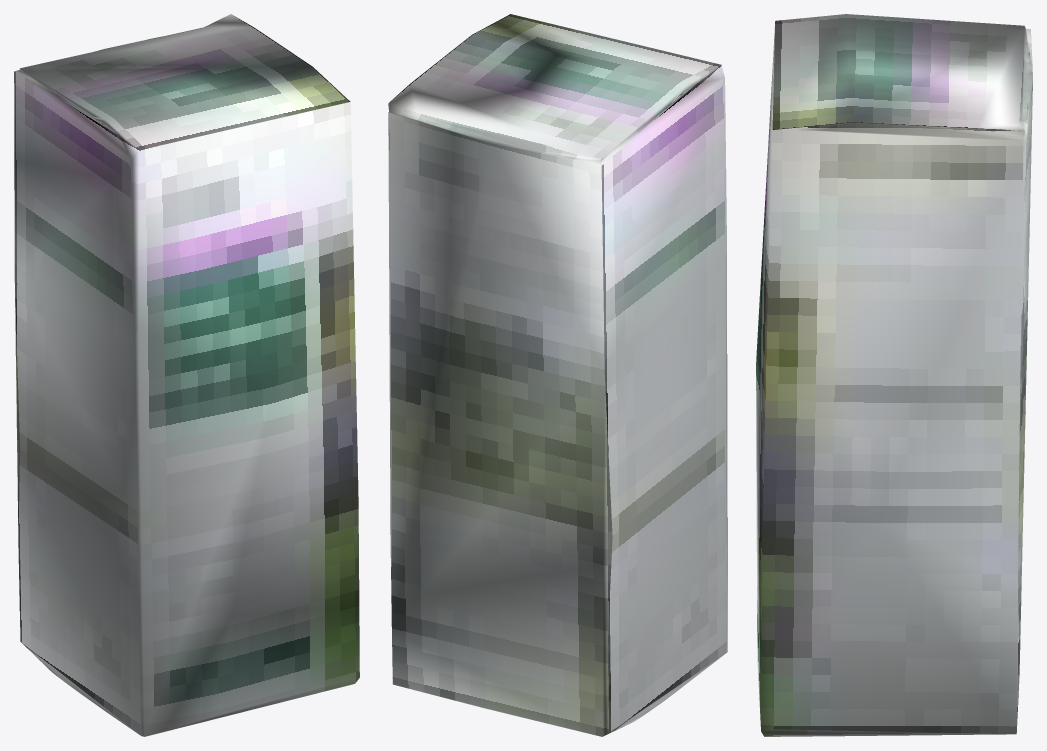
Rendered from Black_Elderberry_Syrup_54_oz_Gaia_Herbs-low.glb.
3 renders of one model, left to right at view 1: azimuth 30°, elevation 25°; view 2: azimuth 150°, elevation 25°; view 3: azimuth 270°, elevation 25°, orthographic. The views are drawn at different scales.
Parts seen in each view (by area): view 1: Black_Elderberry_Syrup_54_oz_Gaia_Herbs; view 2: Black_Elderberry_Syrup_54_oz_Gaia_Herbs; view 3: Black_Elderberry_Syrup_54_oz_Gaia_Herbs.
Boxes of the visible parts, x1=… form: Black_Elderberry_Syrup_54_oz_Gaia_Herbs: x1=14, y1=14, x2=359, y2=736; Black_Elderberry_Syrup_54_oz_Gaia_Herbs: x1=388, y1=14, x2=727, y2=736; Black_Elderberry_Syrup_54_oz_Gaia_Herbs: x1=756, y1=14, x2=1032, y2=736.
Size of the model in its own units: 0.0566 by 0.1448 by 0.0586.
Materials: 1 (1 with a texture image).
